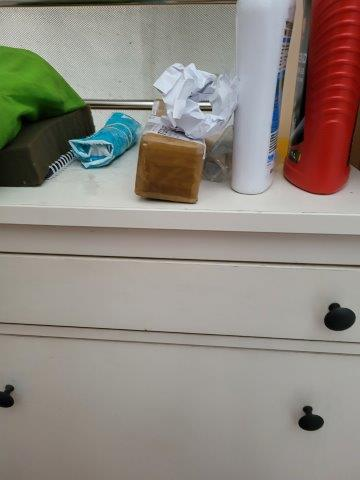kertas: (153, 62, 238, 137)
